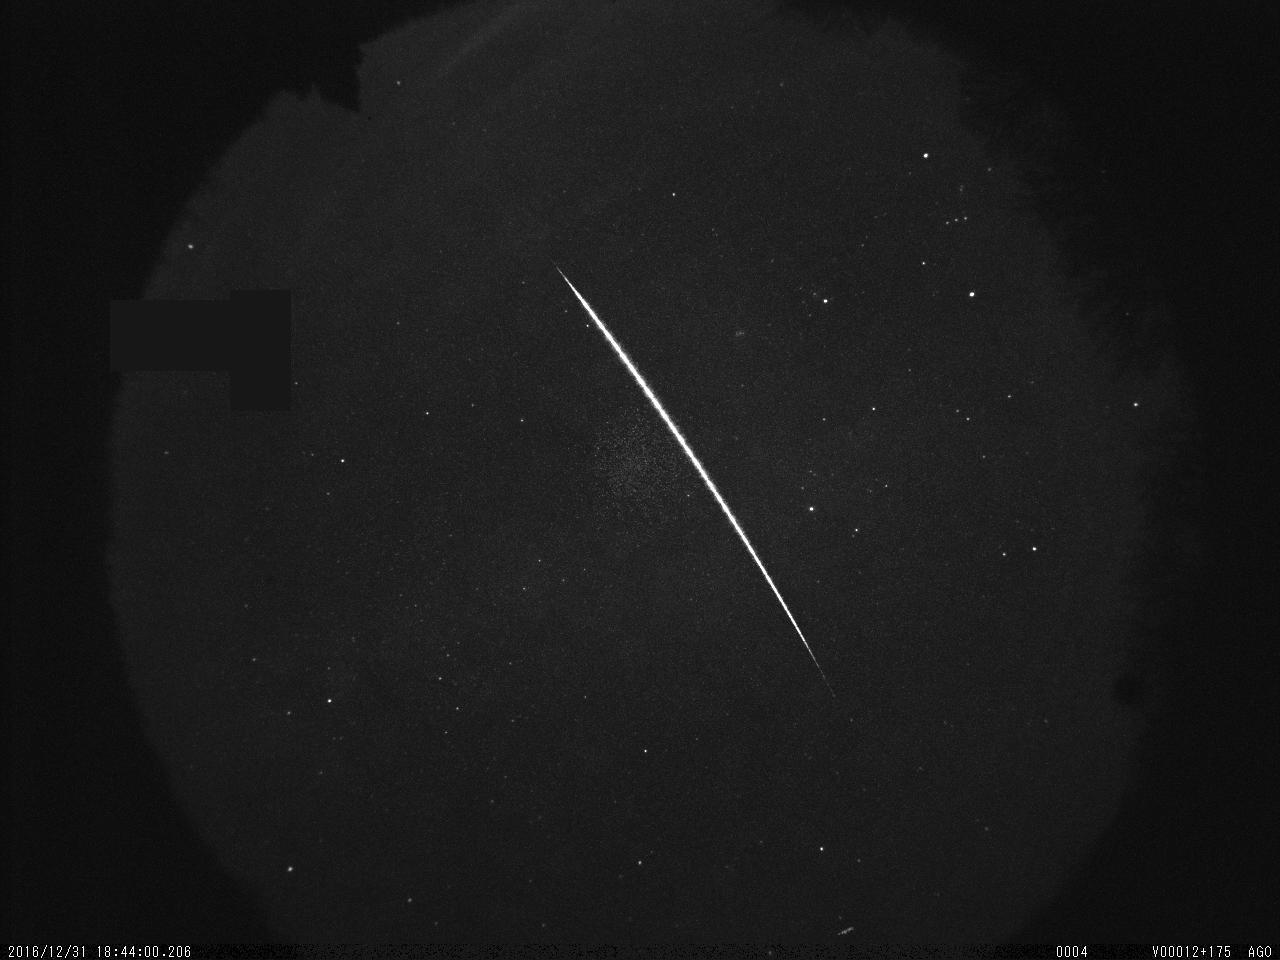meteor: (536, 251, 855, 713)
